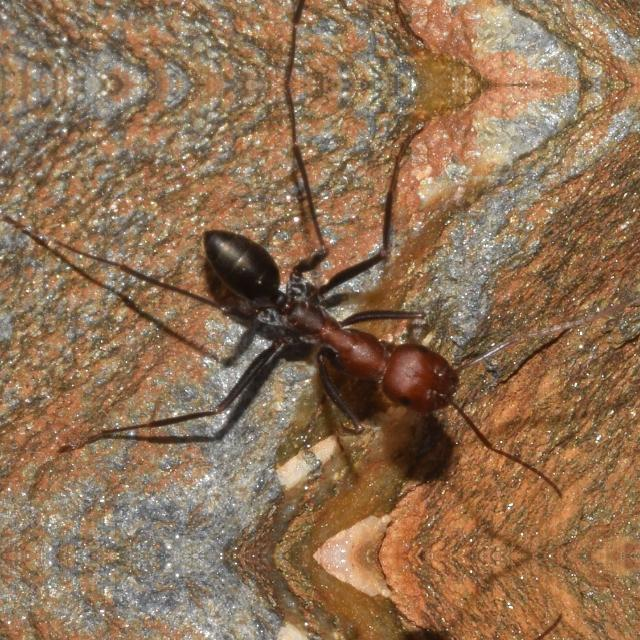Cataglyphis: (143, 206, 502, 442)
